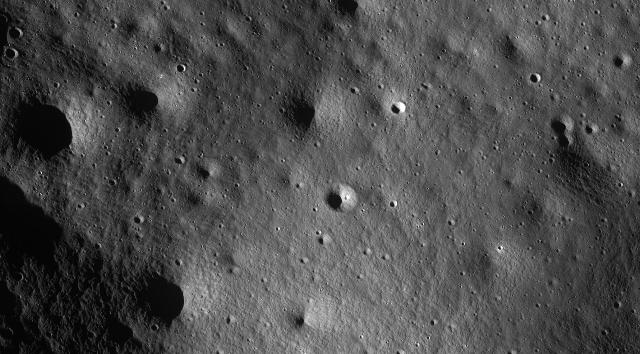crater: (5, 94, 84, 166), (130, 267, 194, 335), (114, 74, 164, 128), (279, 91, 329, 139), (316, 177, 364, 218), (188, 154, 228, 190), (547, 112, 579, 156), (283, 302, 319, 340), (329, 1, 375, 22), (388, 96, 412, 120), (609, 50, 633, 74), (170, 151, 192, 169), (528, 68, 546, 86), (9, 24, 29, 40), (148, 42, 170, 56), (130, 214, 148, 228), (176, 60, 190, 74)
